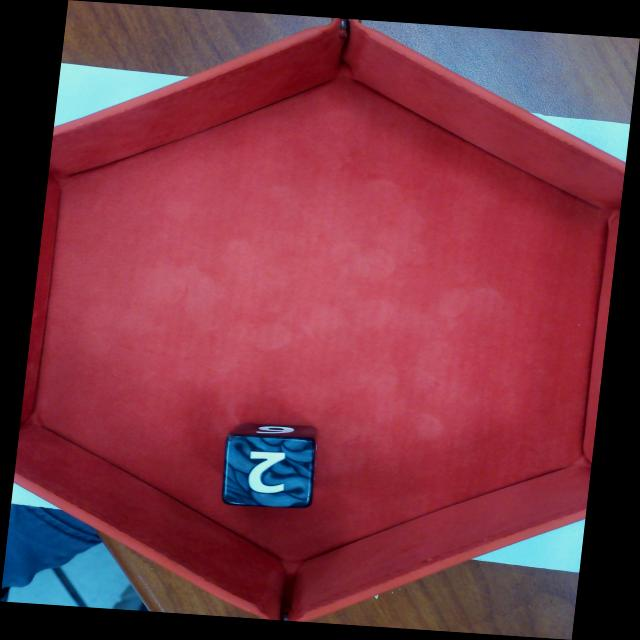dice: (222, 438, 315, 508)
